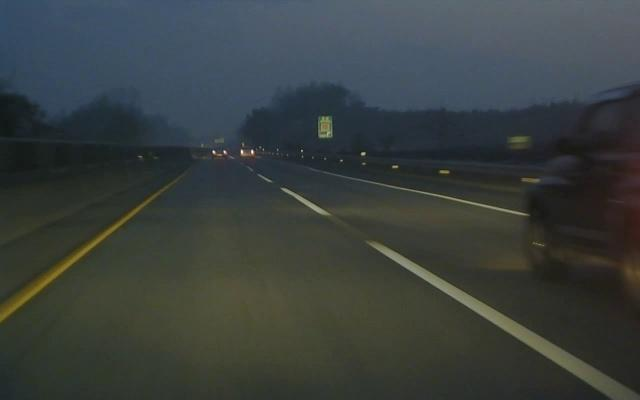lane: (265, 178, 637, 398), (1, 183, 171, 322), (320, 172, 529, 217)
